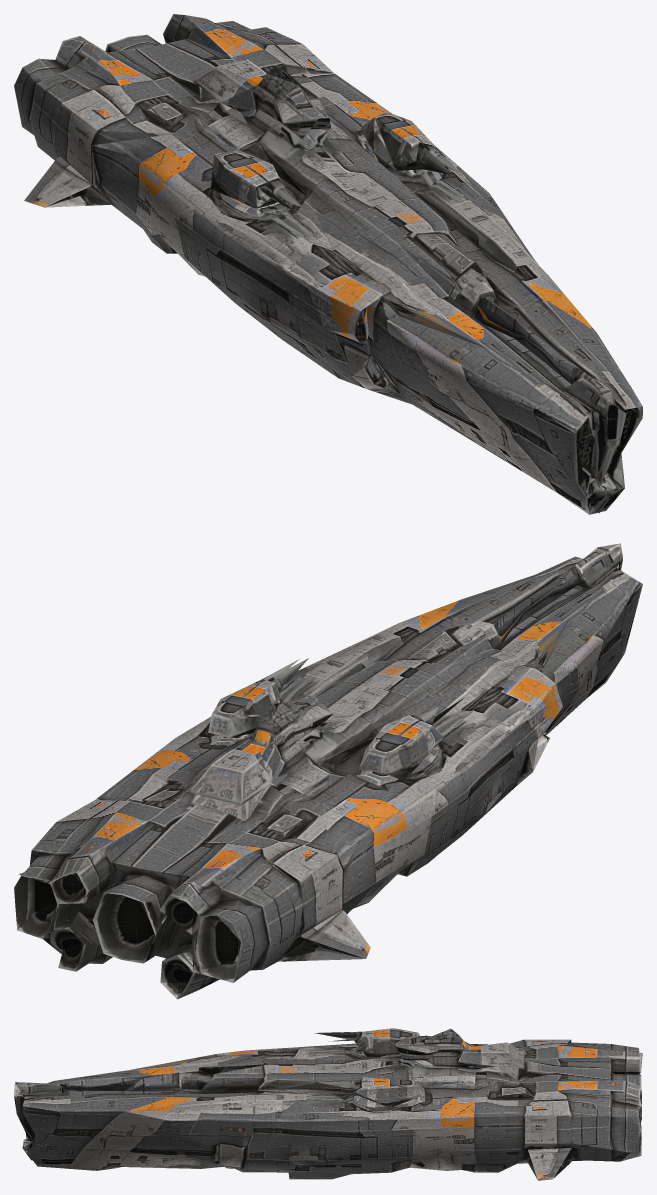
The model's file is battleship-low.glb.
The picture shows the model from 3 angles, top to bottom: view 1: azimuth 30°, elevation 25°; view 2: azimuth 150°, elevation 25°; view 3: azimuth 270°, elevation 25°; orthographic projection. The views are drawn at different scales.
Parts seen in each view (by area): view 1: Low; view 2: Low; view 3: Low.
Part boxes in pixels (<box>): Low: <box>14,14,642,514</box>; Low: <box>14,543,642,999</box>; Low: <box>14,1028,642,1180</box>.
Size of the model in its own units: 0.7823 by 0.4759 by 1.93.
Materials: 1 (1 with a texture image).
